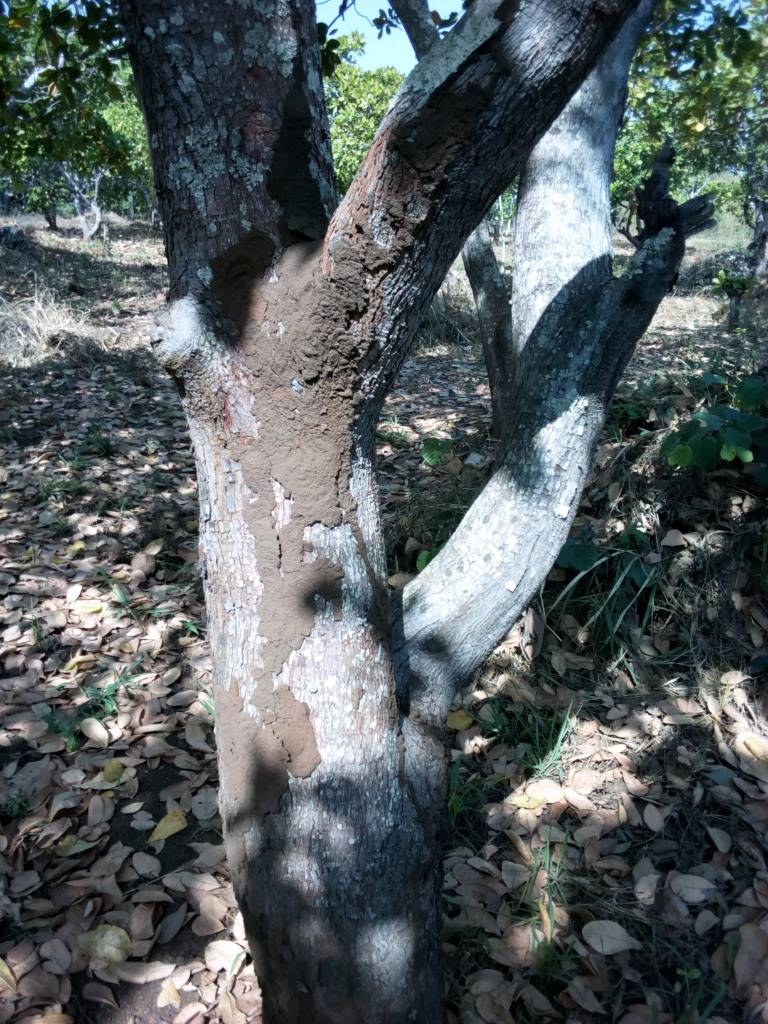Termites: (236, 255, 355, 785)
